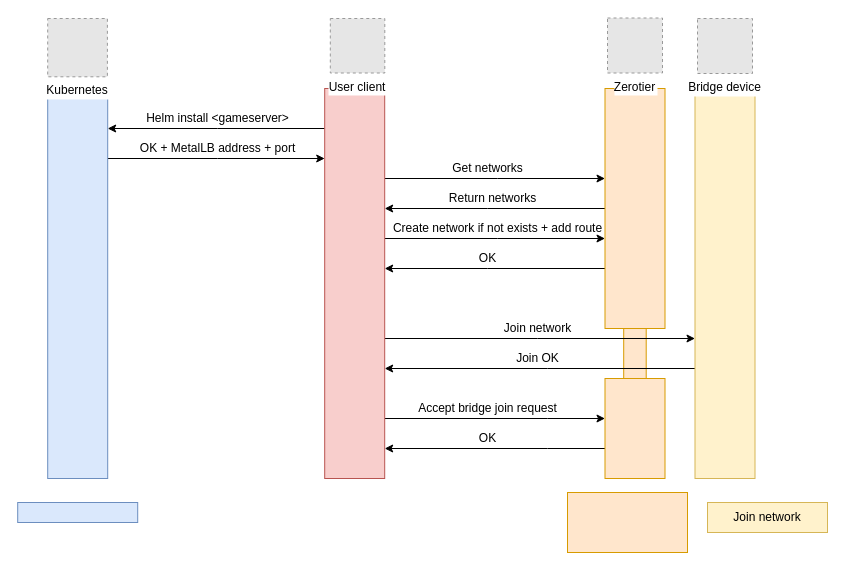
The diagram is 845 pixels wide and 570 high, and some of its shapes have lost their labels. Grey dashed boxes stand in for pictures. The shapes that lost their labels are listed below. From the top down, each one's centre as x and y in pixels, then its label:
At pixel 77 512: "Helm install".
At pixel 627 522: "Get networks Create network Accept join request".
